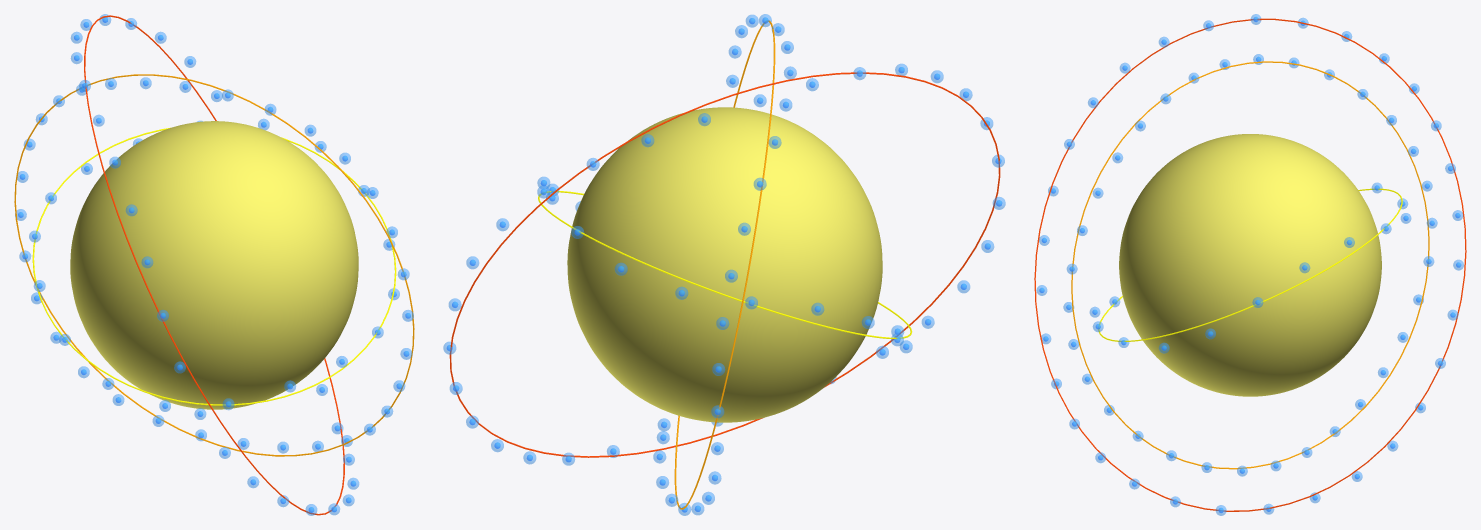
3 views of the same model, side by side, from view 1: azimuth 30°, elevation 25°; view 2: azimuth 150°, elevation 25°; view 3: azimuth 270°, elevation 25° (orthographic). The views are drawn at different scales.
Visible parts, largest first — view 1: Pa, object 61, object 126, object 24; view 2: Pa, object 126, object 61, object 24; view 3: Pa, object 126, object 61, object 24.
Boxes of the visible parts, x1,y1,x2,y2 form: Pa: (70, 121, 358, 409); object 61: (14, 74, 414, 456); object 126: (84, 15, 344, 515); object 24: (32, 127, 396, 405); Pa: (567, 107, 882, 422); object 126: (449, 72, 1000, 457); object 61: (674, 20, 775, 509); object 24: (538, 191, 912, 339); Pa: (1119, 134, 1381, 396); object 126: (1034, 18, 1466, 511); object 61: (1071, 61, 1429, 469); object 24: (1098, 188, 1402, 341).
Bounding box in the file's own units: 4.95 × 6.37 × 6.27.
